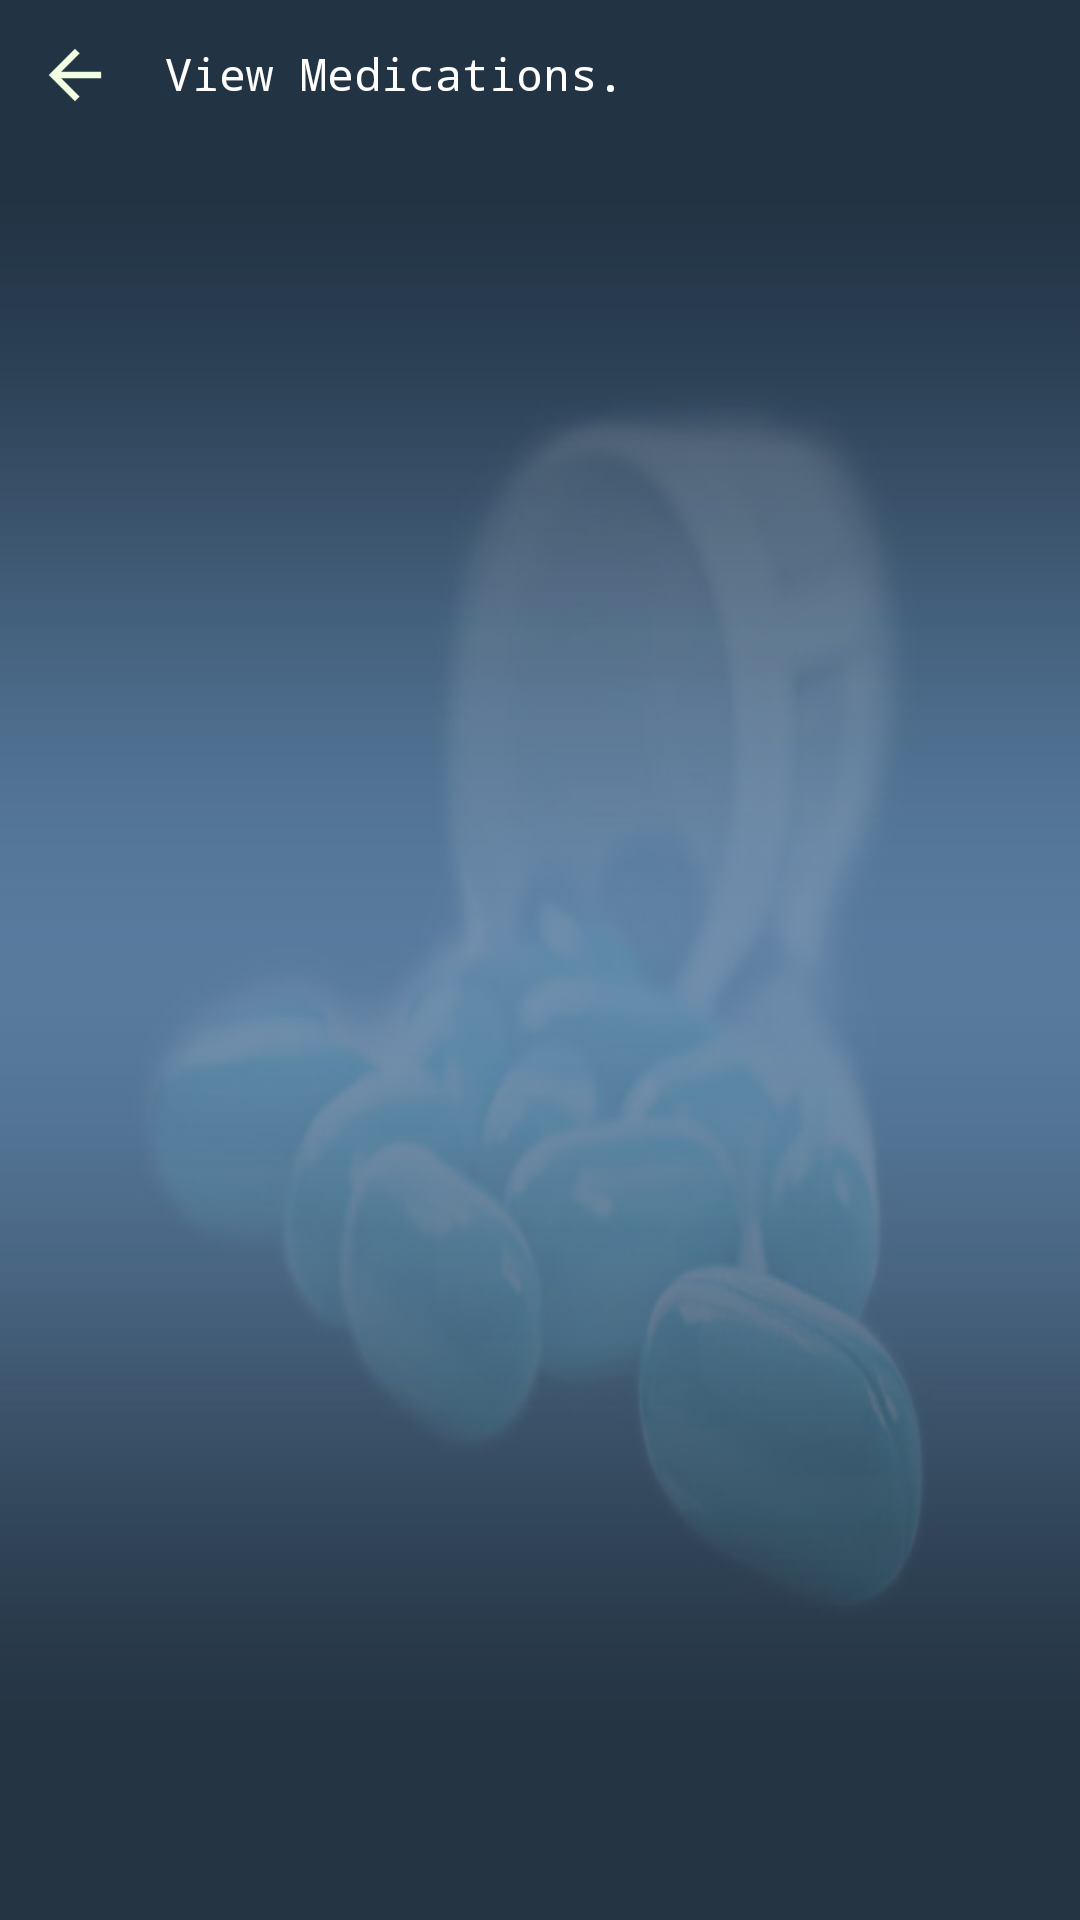

Icon bounding boxes for this 1080w x 1920h phone screenshot, format (x1, y1, x2, y2):
arrow back: (49, 49, 102, 101)
